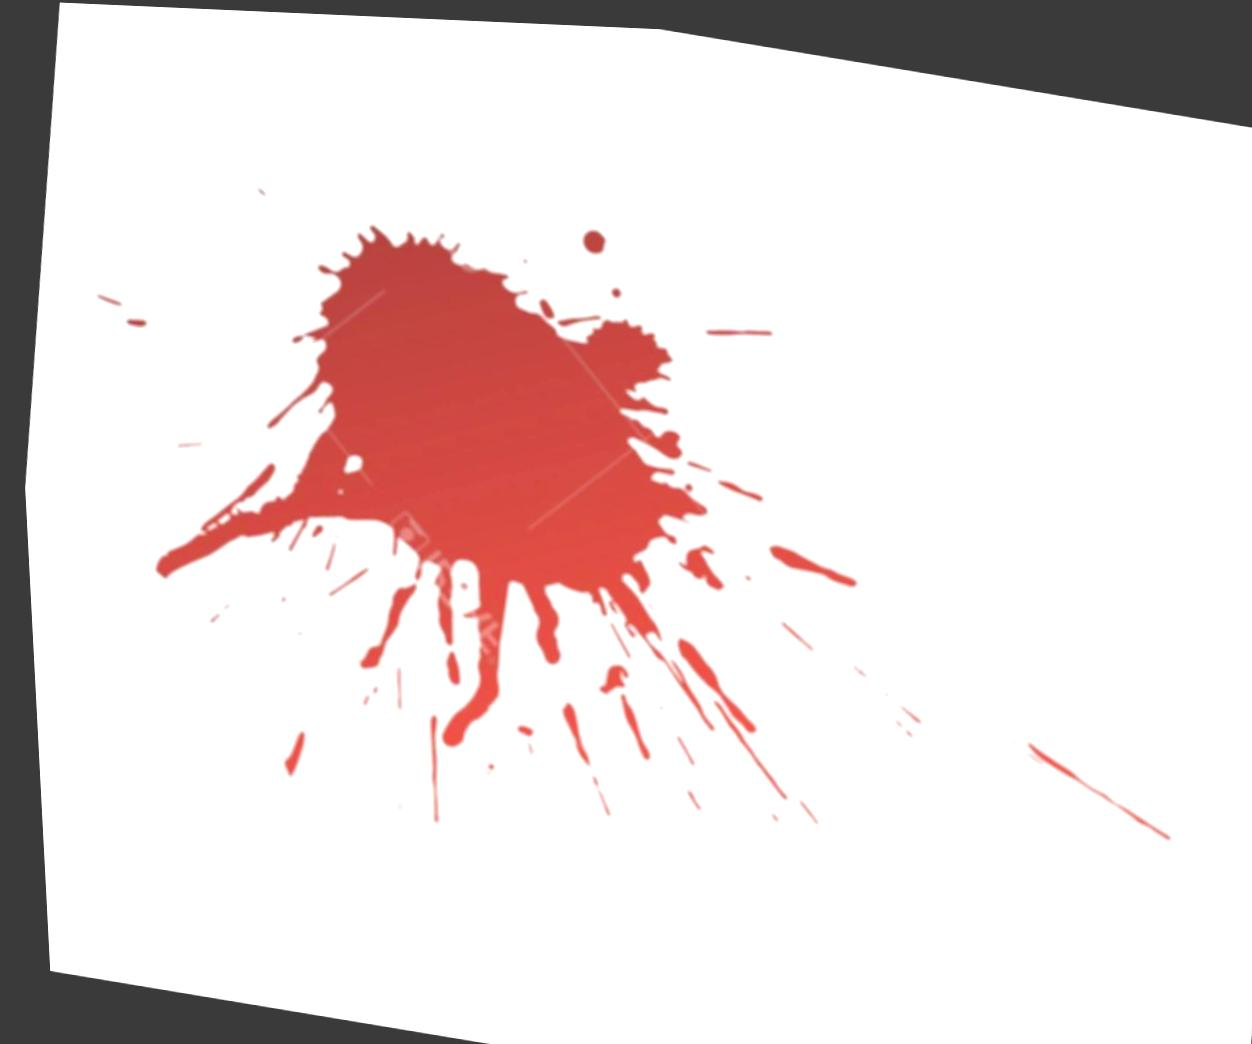Fire: (147, 221, 706, 745)
